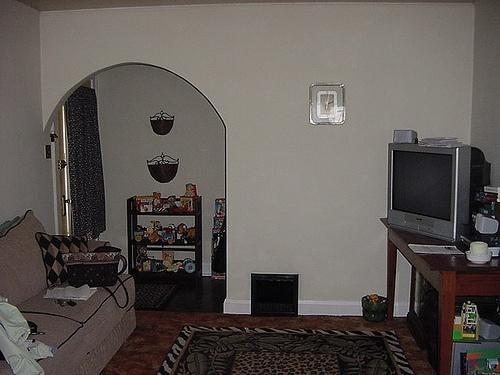sofa: (1, 209, 139, 375)
tvmonitor: (384, 142, 493, 243)
